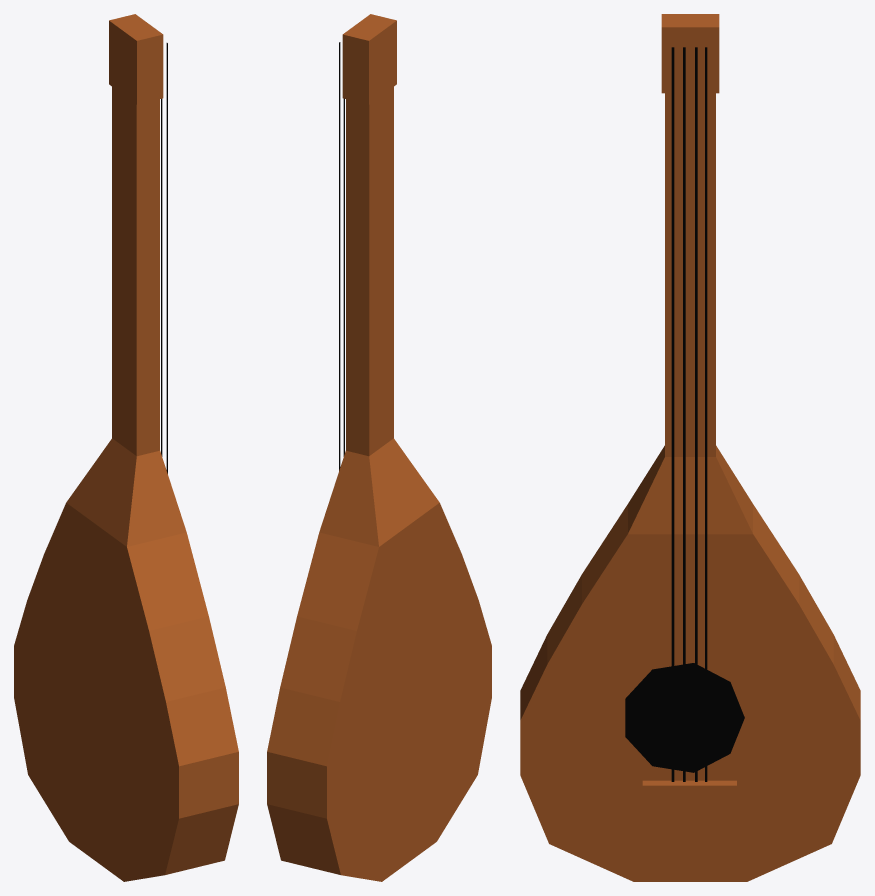
The model's file is Guitar.fbx.
3 renders of one model, left to right at view 1: azimuth 30°, elevation 25°; view 2: azimuth 150°, elevation 25°; view 3: azimuth 270°, elevation 25°, orthographic. The views are drawn at different scales.
Parts seen in each view (by area): view 1: Cube, Plane.001, Plane.002; view 2: Cube, Plane.003, Plane; view 3: Cube, Circle, Plane.001, Plane, Plane.002, Plane.003, Cube.001.
Boxes of the visible parts, x1,y1,x2,y2 form: Cube: (14,14,238,881); Plane.001: (166,43,167,473); Plane.002: (161,98,162,456); Cube: (267,14,491,881); Plane.003: (339,42,340,470); Plane: (343,98,344,456); Cube: (520,14,860,881); Circle: (625,663,744,772); Plane.001: (671,47,674,781); Plane: (695,47,697,781); Plane.002: (683,47,685,781); Plane.003: (705,47,707,781); Cube.001: (642,780,736,801).
Bounding box in the file's own units: 38.82 × 438 × 159.
